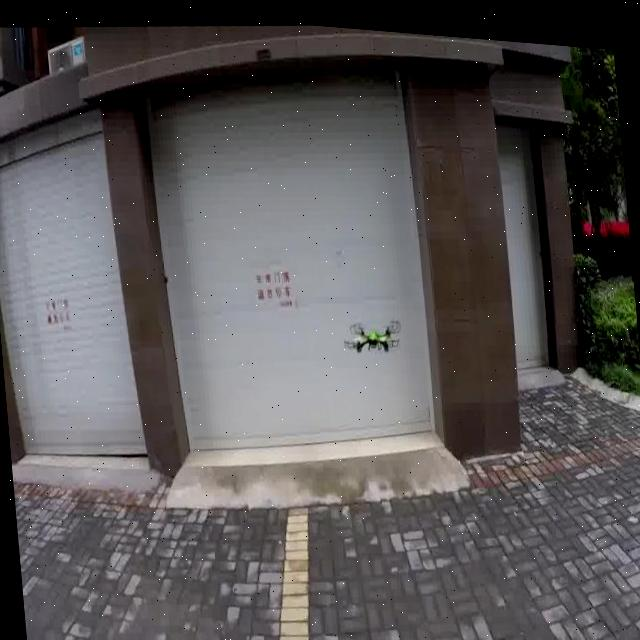drone: (334, 299, 408, 361)
